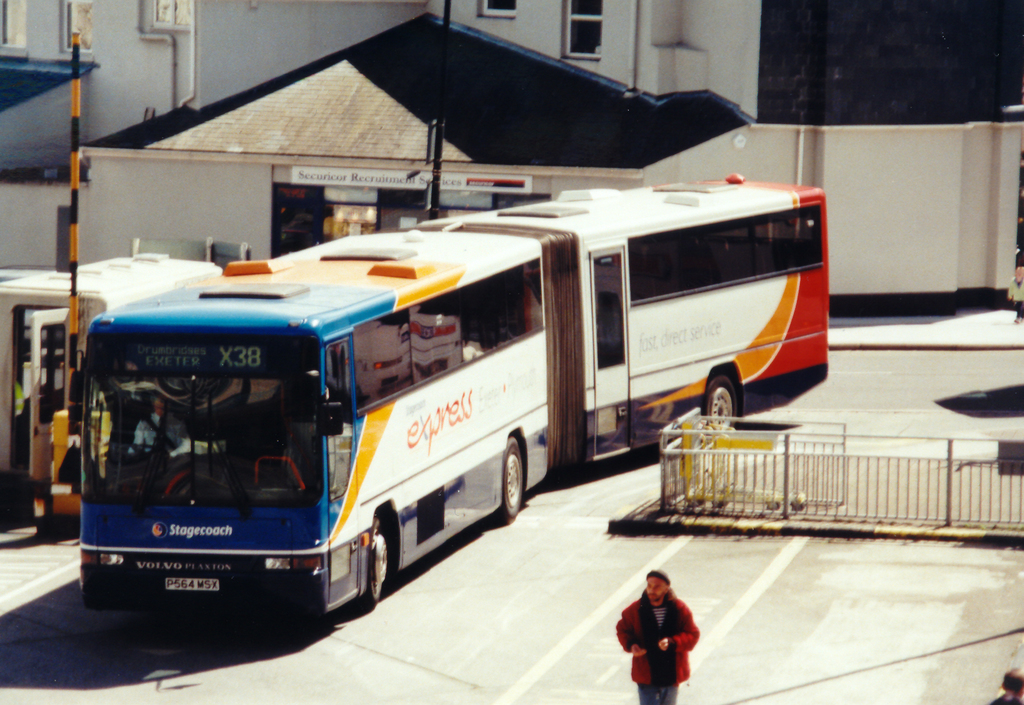Bus: (67, 164, 835, 622)
